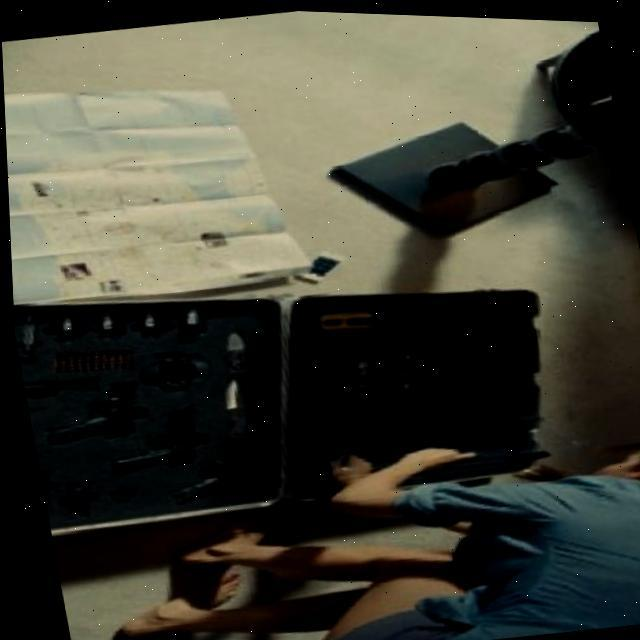gun: (66, 399, 210, 485), (154, 430, 283, 514), (20, 377, 144, 460)
